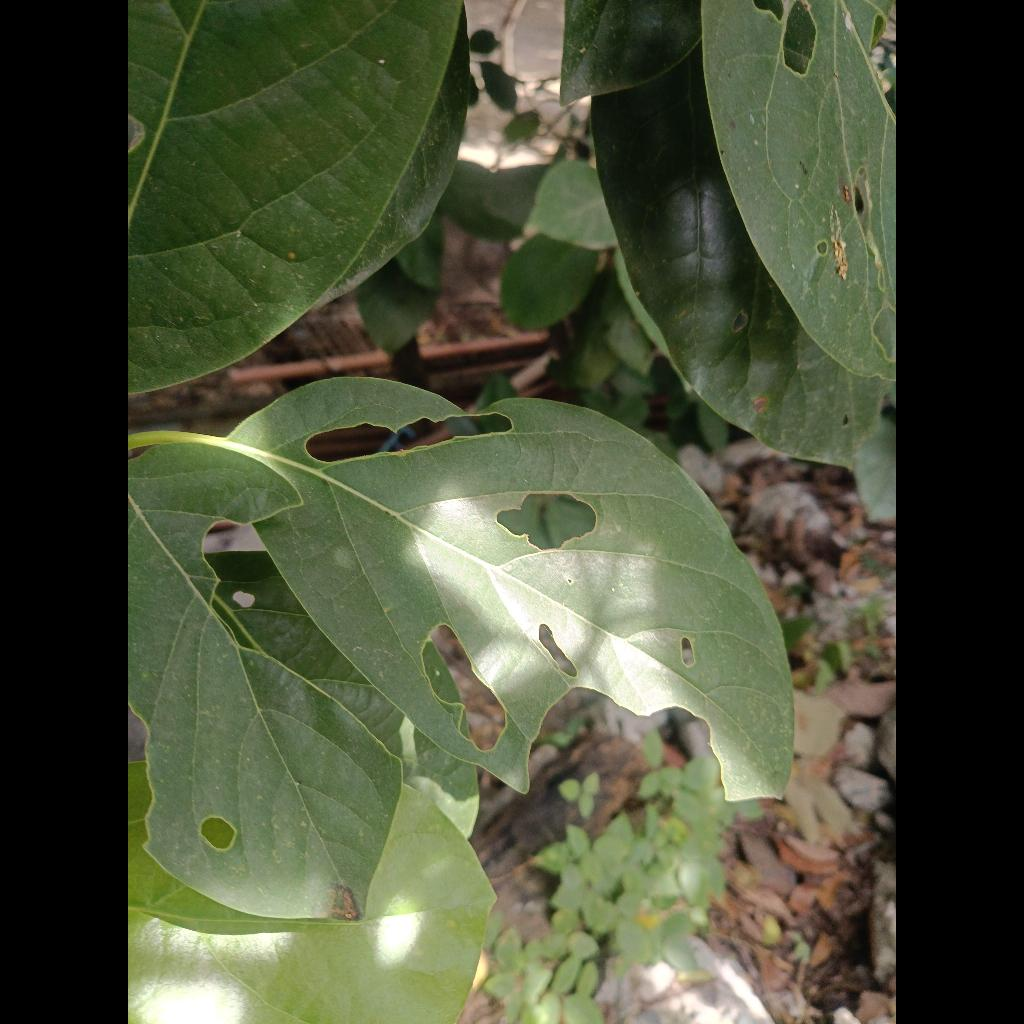plaga: (128, 379, 793, 918)
